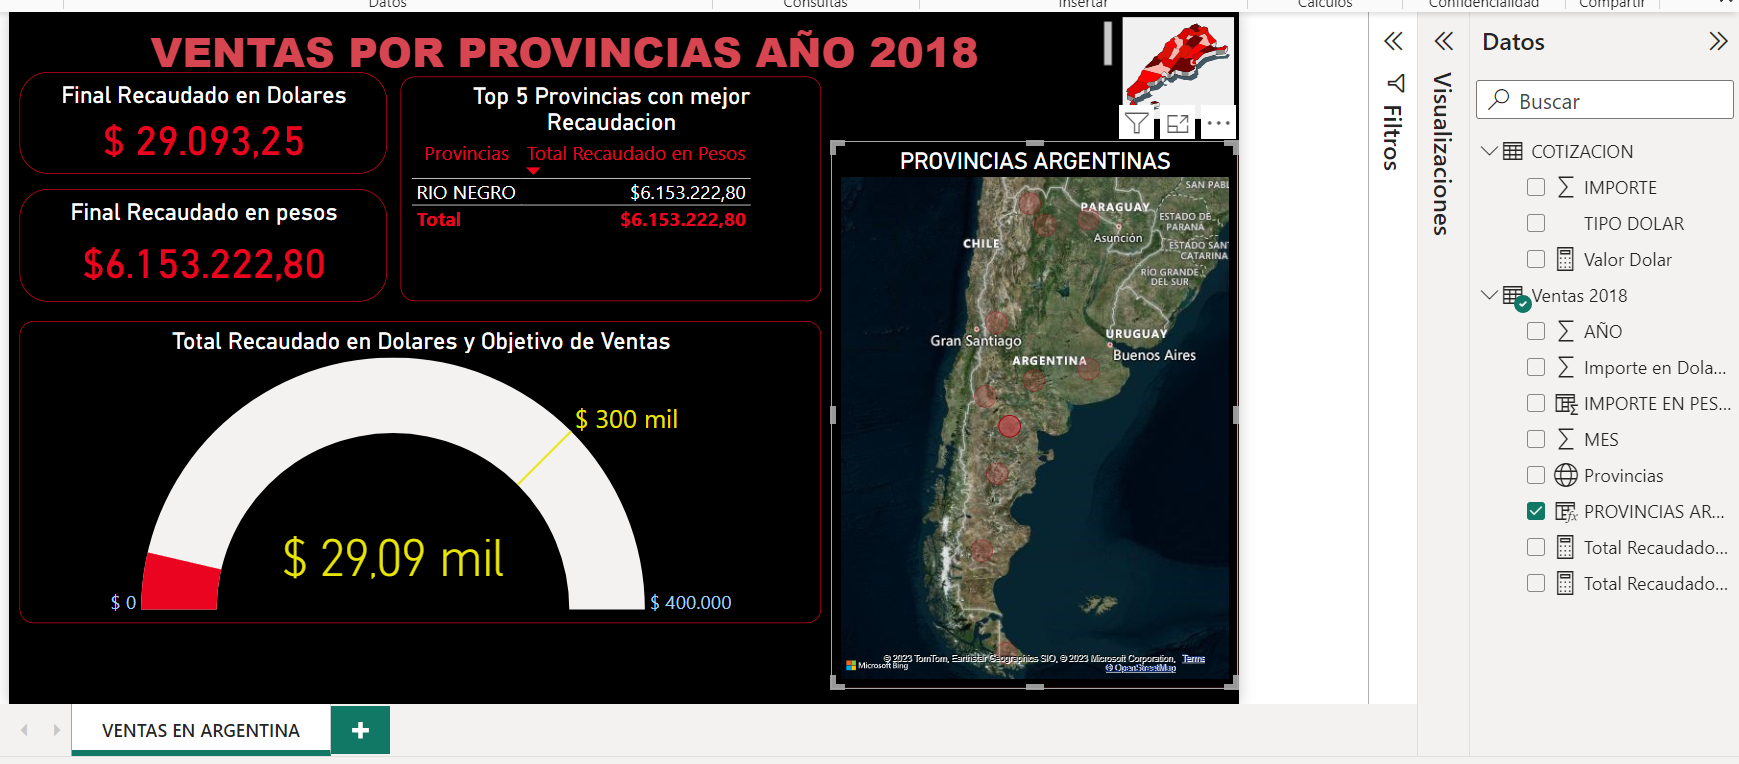

Layout of this report page (visuals, bound fields, positions):
{"tool":"powerbi","page":{"name":"VENTAS EN ARGENTINA","canvas":[1280,720],"ordinal":0},"visuals":[{"type":"card","title":"Final Recaudado en Dolares","fields":{"Values":["Ventas 2018.Total Recaudado en Dolares"]},"box":[11.3,62.4,382.7,106.3],"z":0},{"type":"card","title":" Final Recaudado en pesos","fields":{"Values":["Ventas 2018.Total Recaudado en Pesos"]},"box":[11.3,184.3,382.7,117.6],"z":1000},{"type":"tableEx","title":"Top 5 Provincias con mejor Recaudacion","fields":{"Values":["Ventas 2018.Provincias","Ventas 2018.Total Recaudado en Pesos"]},"box":[408.2,66.6,438,233.9],"z":2000},{"type":"gauge","title":"Total Recaudado en Dolares y Objetivo de Ventas","fields":{"Y":["Ventas 2018.Total Recaudado en Dolares"]},"box":[11.3,321.7,834.8,314.6],"z":3000},{"type":"map","fields":{"Category":["Ventas 2018.PROVINCIAS ARGENTINAS"]},"box":[856.1,134.6,423.8,569.8],"z":4000},{"type":"image","box":[1153.7,0,126.1,116.2],"z":5000},{"type":"textbox","box":[11.3,4.3,1142.4,62.4],"z":6000}]}

Visuals, with their boxes on the page's 1280x720 design canvas (x1, y1, x2, y2). These are canvas units, not pixel positions in the 1739x764 screenshot, which may show the page scaled, cropped or inside an application window:
"Final Recaudado en Dolares" card: [x1=11, y1=62, x2=394, y2=169]
" Final Recaudado en pesos" card: [x1=11, y1=184, x2=394, y2=302]
"Top 5 Provincias con mejor Recaudacion" tableEx: [x1=408, y1=67, x2=846, y2=300]
"Total Recaudado en Dolares y Objetivo de Ventas" gauge: [x1=11, y1=322, x2=846, y2=636]
map - Ventas 2018.PROVINCIAS ARGENTINAS: [x1=856, y1=135, x2=1280, y2=704]
image: [x1=1154, y1=0, x2=1280, y2=116]
textbox: [x1=11, y1=4, x2=1154, y2=67]
